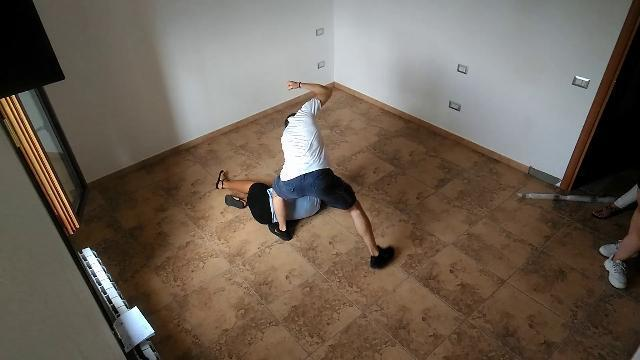non-violence: (596, 204, 640, 288)
violence: (213, 79, 397, 273)
